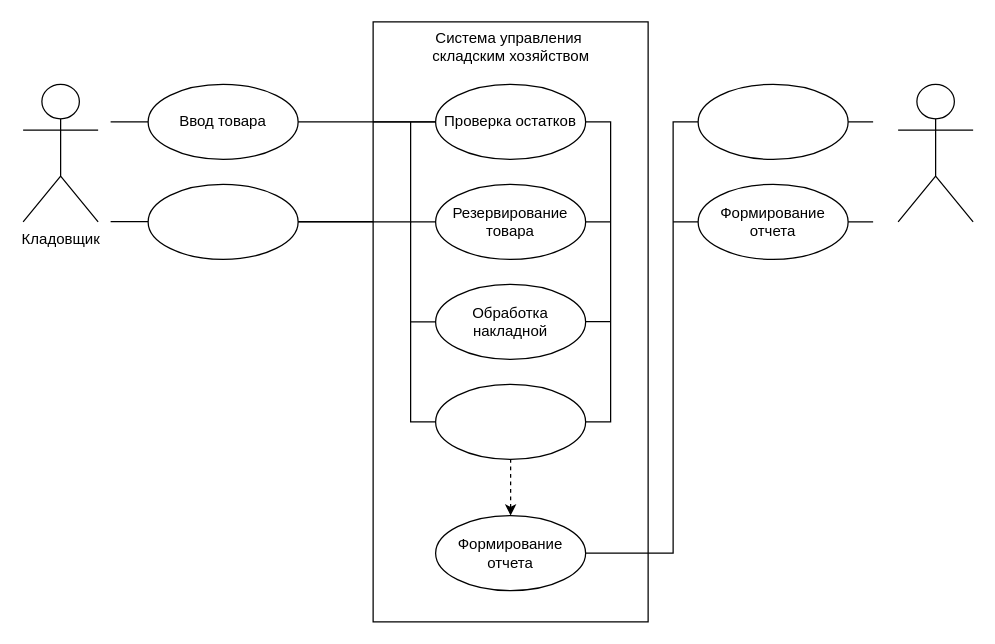
Image size: 995x644. Some labels were removed from this diagram. Here are the shapes that lost their labels. From the top down, the centre of each, then its label:
At [772,121]: "Просмотр результатов".
At [935,152]: "Менеджер".
At [222,221]: "Запуск складской операции".
At [510,421]: "Обновление количества".
